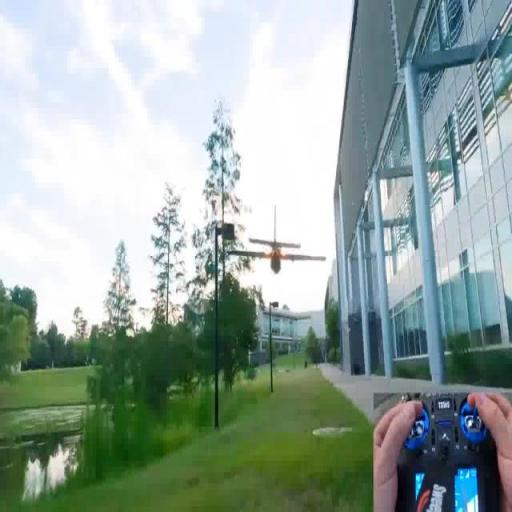uav: (226, 203, 330, 286)
